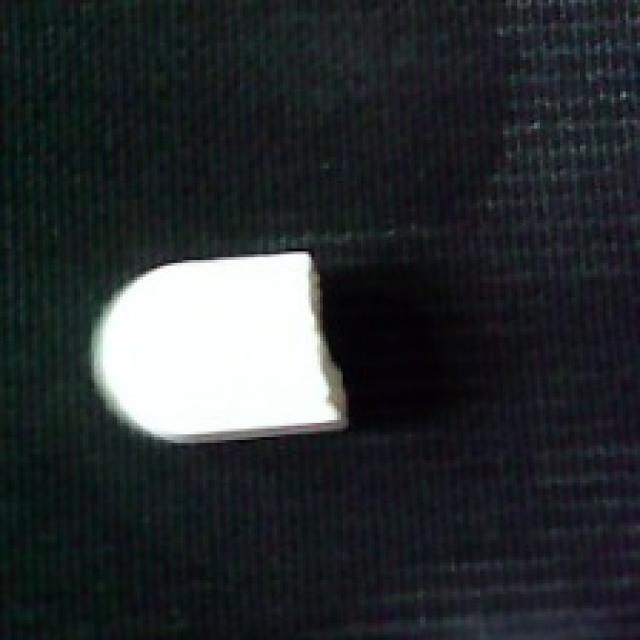defected: (83, 245, 351, 446)
